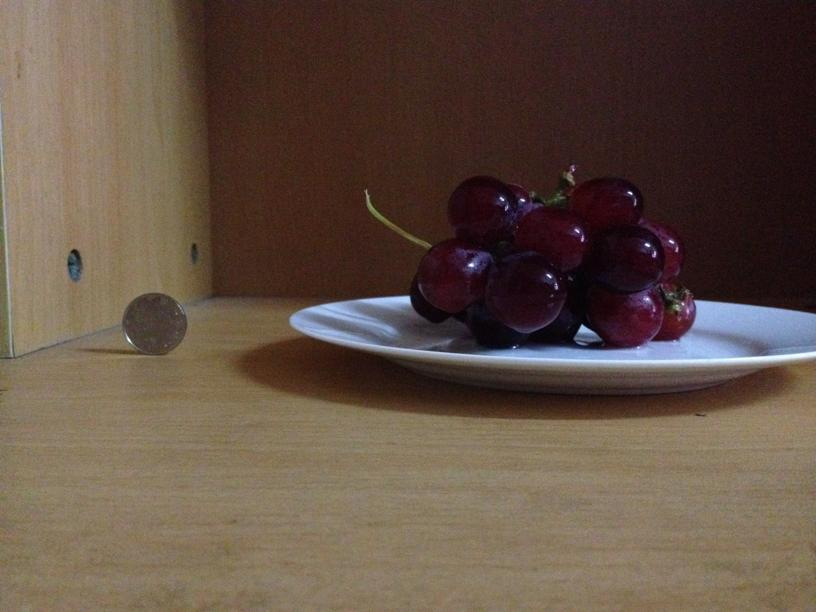coin: (120, 290, 186, 355)
grape: (412, 171, 697, 348)
